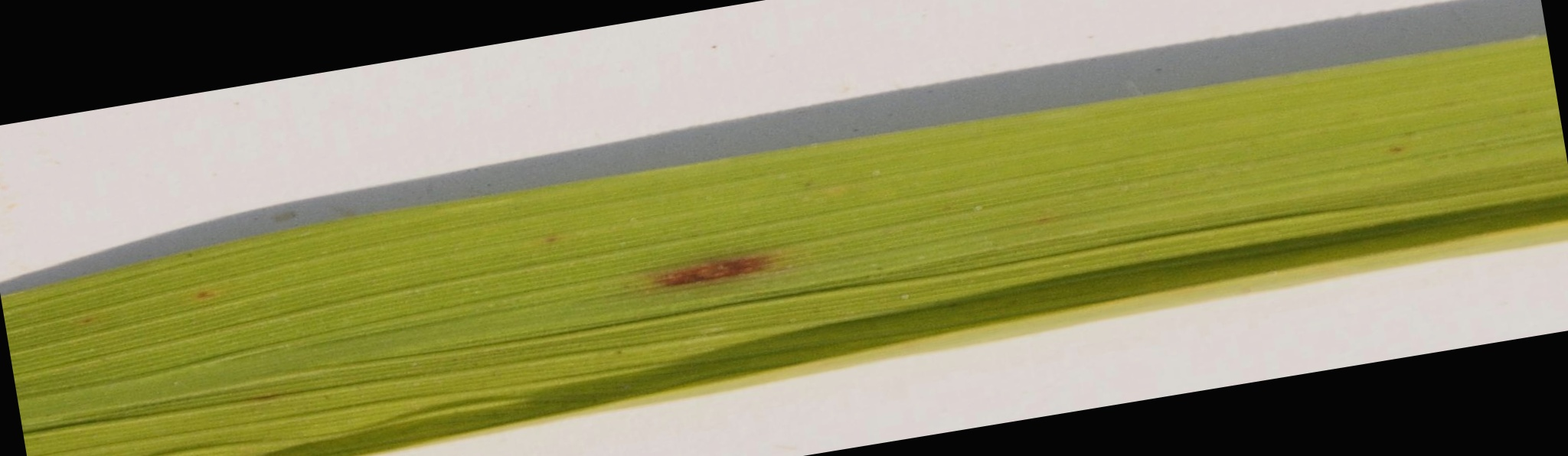Bacterial_Leaf_Blight: (607, 218, 810, 309)
